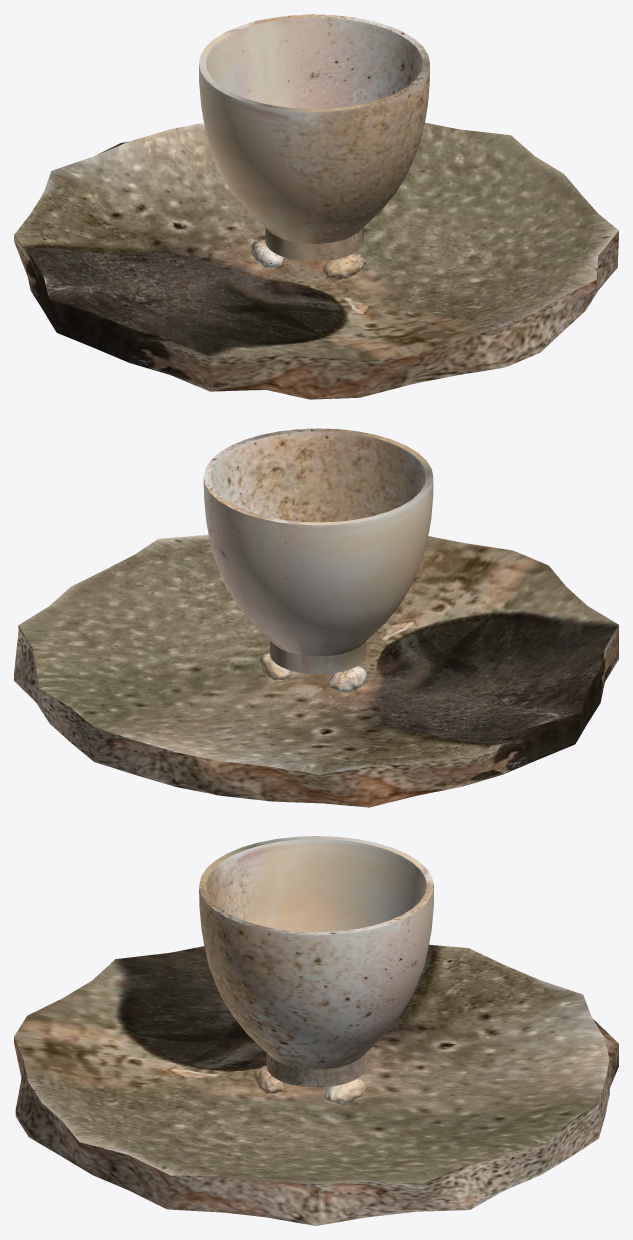
The model's file is DDYB01.FBX.
The picture shows the model from 3 angles, top to bottom: view 1: azimuth 30°, elevation 25°; view 2: azimuth 150°, elevation 25°; view 3: azimuth 270°, elevation 25°; orthographic projection. The views are drawn at different scales.
Visible parts, largest first — view 1: DDYB; view 2: DDYB; view 3: DDYB.
Boxes of the visible parts, x1,y1,x2,y2 form: DDYB: [14, 14, 618, 399]; DDYB: [14, 428, 618, 807]; DDYB: [14, 836, 618, 1225].
Size of the model in its own units: 18.29 by 7.95 by 17.86.
Materials: 2 (2 with a texture image).
